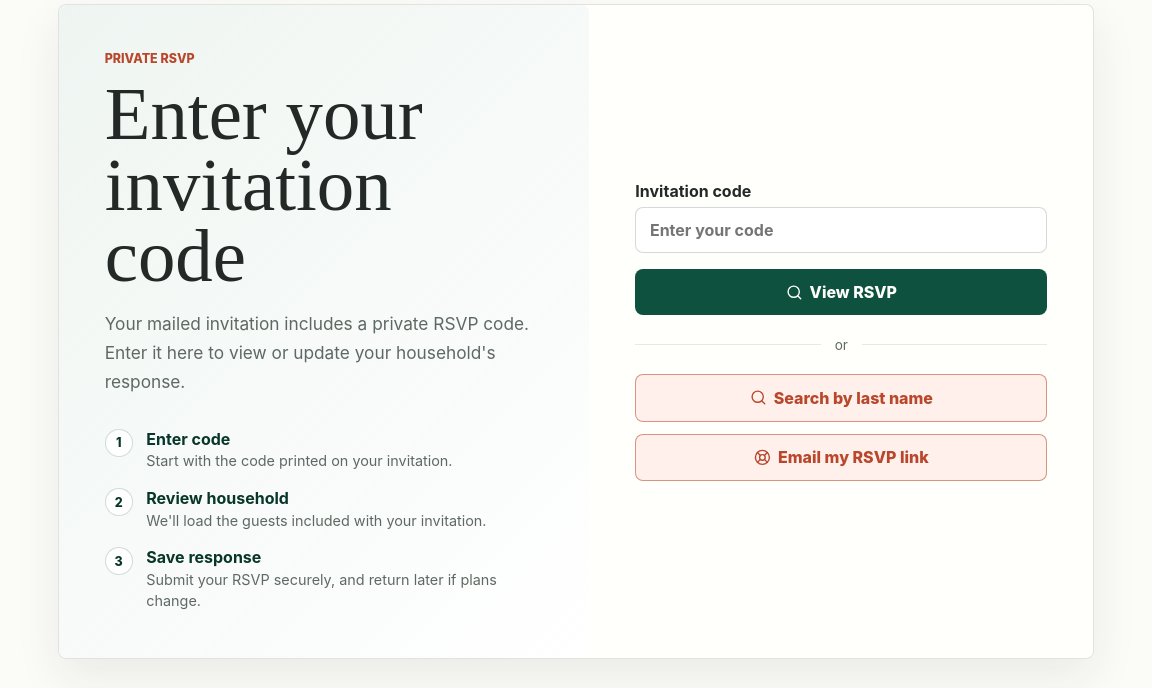
Test: RsvpLookupPage › submits a search and shows accessible household links
The image size is (1152, 688).
Click the button "Search by last name" at (841, 398), box [635,374,1047,422]
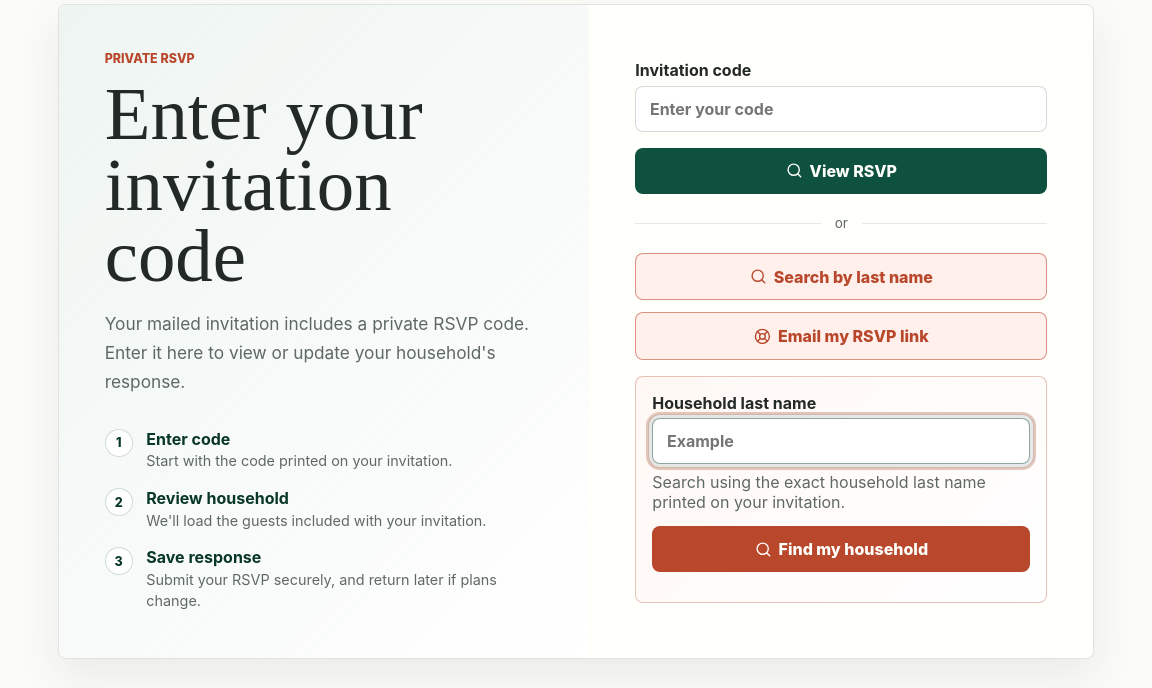
Type " Example " into the field labelled "Household last name" at (841, 442), box [652,418,1030,464]
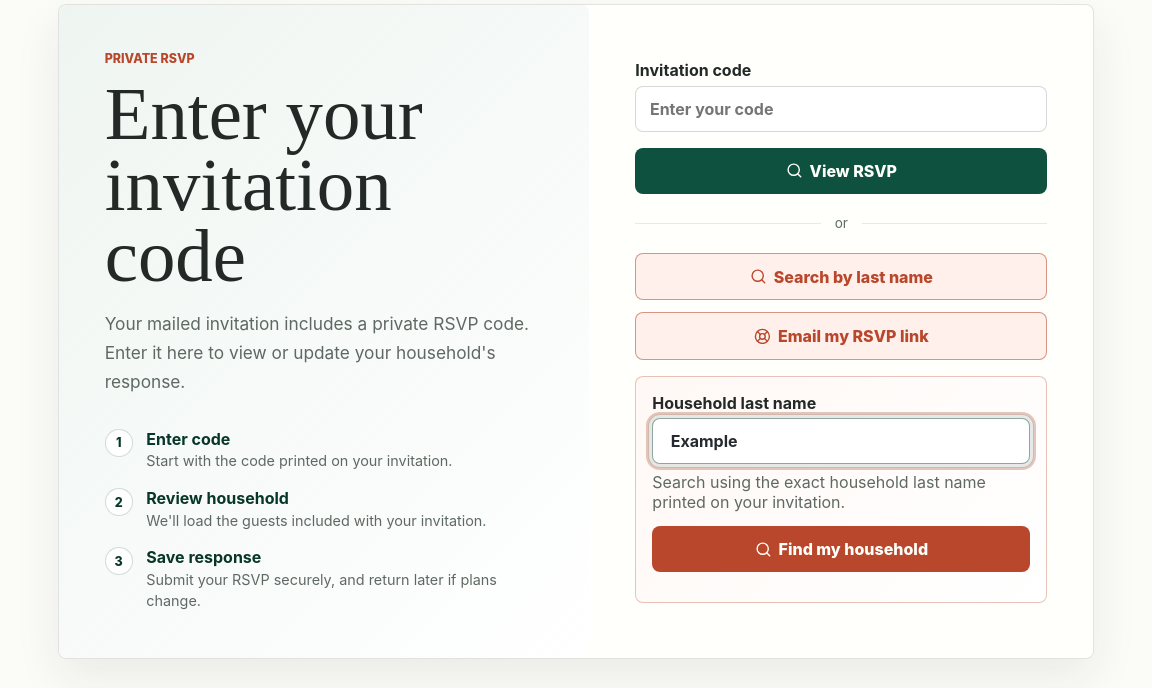
Click the button "Find my household" at (841, 549), box [652,526,1030,572]
(page scrolled)
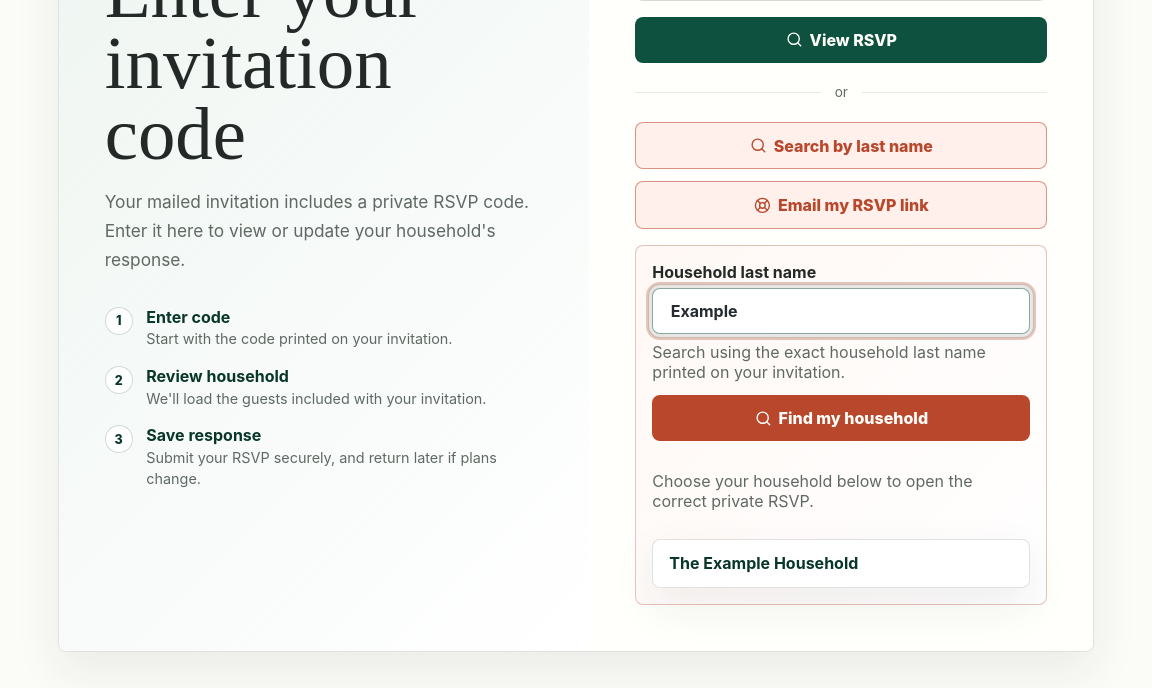
Check: the list named "Matching households" is shown, box [652,539,1030,588]
